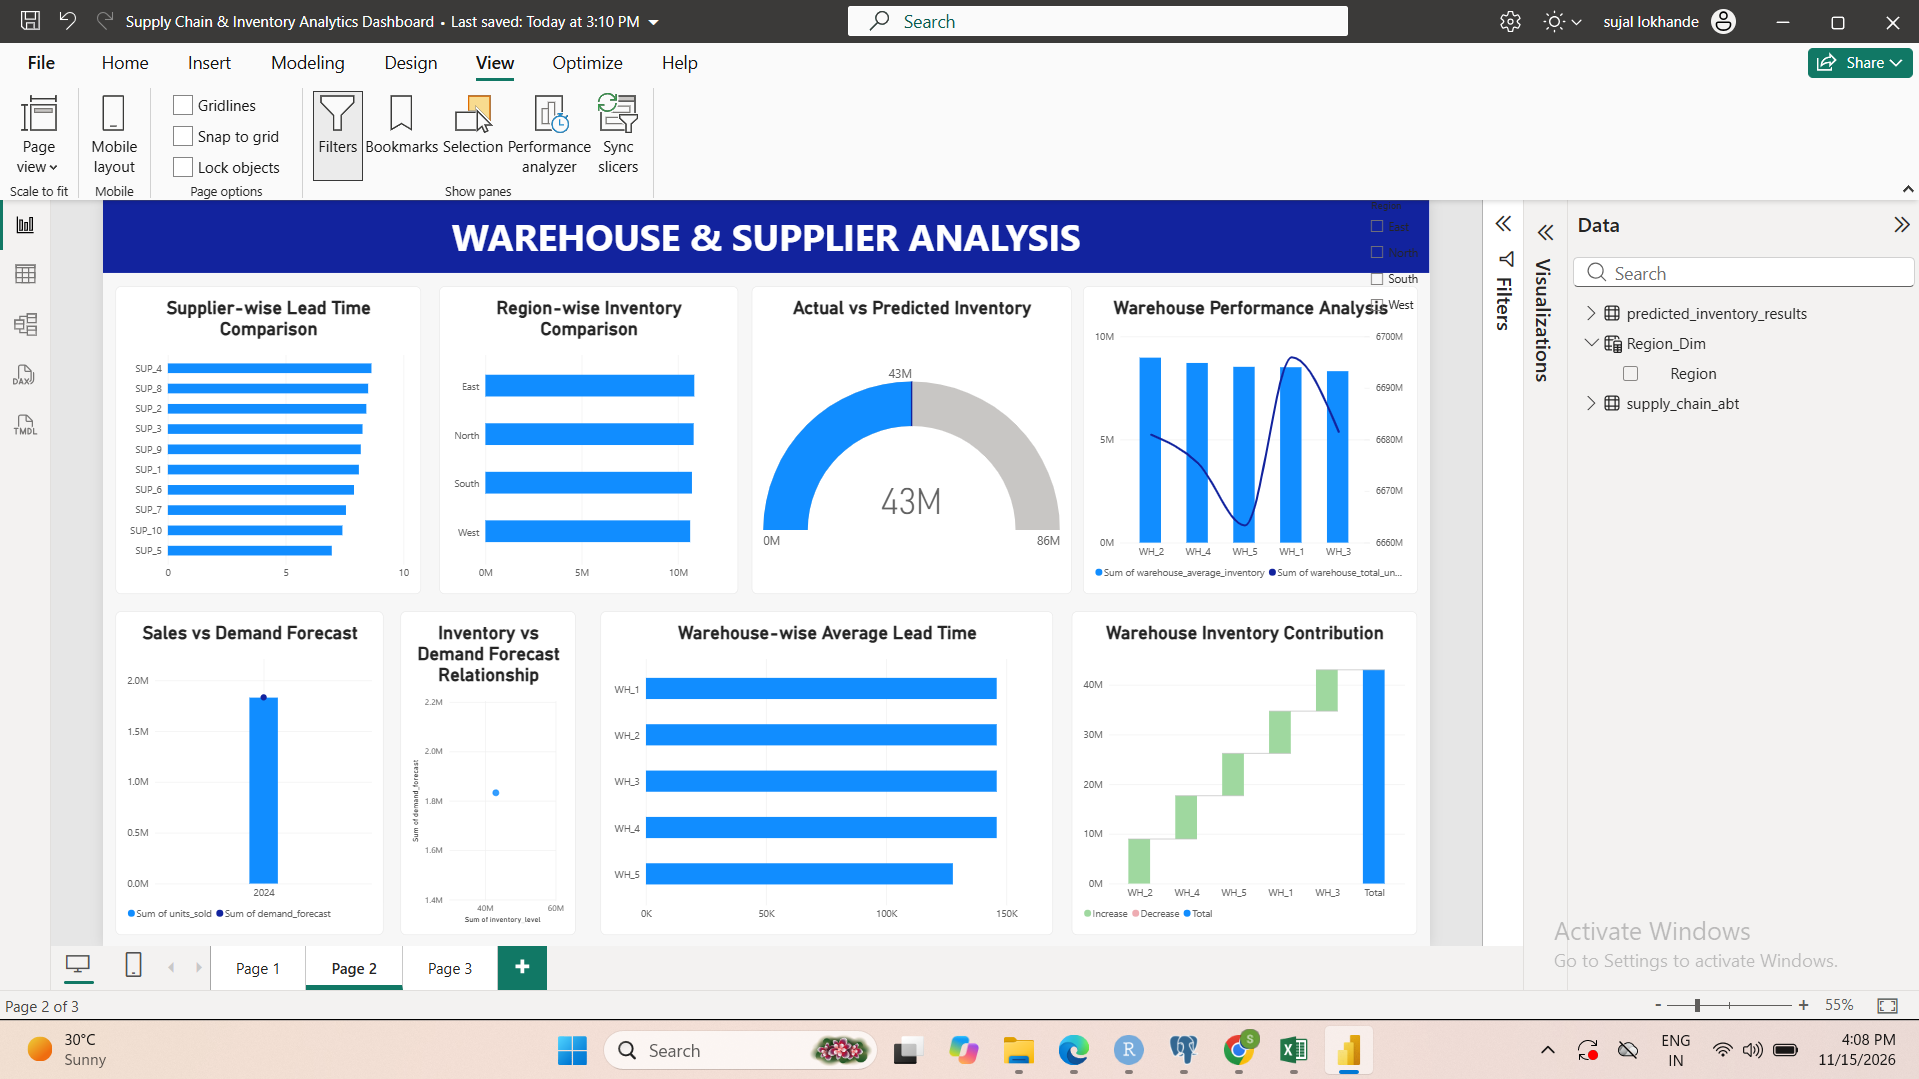

Layout of this report page (visuals, bound fields, positions):
{"tool":"powerbi","page":{"name":"Page 2","canvas":[1920,1080],"ordinal":1},"visuals":[{"type":"clusteredBarChart","title":"Supplier-wise Lead Time Comparison","fields":{"Category":["supply_chain_abt.supplier_id"],"Y":["Avg(supply_chain_abt.supplier_lead_time_days)"]},"box":[17.3,125,442.1,446],"z":0},{"type":"gauge","title":"Actual vs Predicted Inventory","fields":{"TargetValue":["predicted_inventory_results.Predicted Inventory KPI"],"Y":["Sum(supply_chain_abt.inventory_level)"]},"box":[940,125,463.3,446],"z":1000},{"type":"lineClusteredColumnComboChart","title":"Sales vs Demand Forecast","fields":{"Category":["predicted_inventory_results.date.Variation.Date Hierarchy.Year","predicted_inventory_results.date.Variation.Date Hierarchy.Quarter","predicted_inventory_results.date.Variation.Date Hierarchy.Month","predicted_inventory_results.date.Variation.Date Hierarchy.Day"],"Y":["Sum(predicted_inventory_results.units_sold)"],"Y2":["Sum(predicted_inventory_results.demand_forecast)"]},"box":[17.3,595.9,388.3,469],"z":2000},{"type":"scatterChart","title":"Inventory vs Demand Forecast Relationship","fields":{"X":["Sum(supply_chain_abt.inventory_level)"],"Y":["Sum(supply_chain_abt.demand_forecast)"]},"box":[430.6,595.9,253.7,469],"z":3000},{"type":"lineClusteredColumnComboChart","title":"Warehouse Performance Analysis","fields":{"Category":["supply_chain_abt.warehouse_id"],"Y":["Sum(supply_chain_abt.warehouse_average_inventory)"],"Y2":["Sum(supply_chain_abt.warehouse_total_units_sold)"]},"box":[1418.7,125,484.4,446],"z":5000},{"type":"clusteredBarChart","title":"Warehouse-wise Average Lead Time","fields":{"Category":["supply_chain_abt.warehouse_id"],"Y":["Sum(supply_chain_abt.warehouse_average_lead_time)"]},"box":[720.9,595.9,655.5,469],"z":6000},{"type":"waterfallChart","title":"Warehouse Inventory Contribution","fields":{"Category":["supply_chain_abt.warehouse_id"],"Y":["Sum(supply_chain_abt.warehouse_average_inventory)"]},"box":[1403.3,595.9,499.8,469],"z":7000},{"type":"textbox","box":[0,0,1920.4,105.7],"z":7001},{"type":"clusteredBarChart","title":"Region-wise Inventory Comparison","fields":{"Category":["predicted_inventory_results.region"],"Y":["Sum(predicted_inventory_results.inventory_level)"]},"box":[486.3,125,432.5,446],"z":7002},{"type":"slicer","fields":{"Values":["Region_Dim.Region"]},"box":[1828.1,0,92.3,180.7],"z":7003}]}

Visuals, with their boxes on the page's 1920x1080 design canvas (x1, y1, x2, y2). These are canvas units, not pixel positions in the 1919x1079 screenshot, which may show the page scaled, cropped or inside an application window:
"Supplier-wise Lead Time Comparison" clusteredBarChart: 17 125 459 571
"Actual vs Predicted Inventory" gauge: 940 125 1403 571
"Sales vs Demand Forecast" lineClusteredColumnComboChart: 17 596 406 1065
"Inventory vs Demand Forecast Relationship" scatterChart: 431 596 684 1065
"Warehouse Performance Analysis" lineClusteredColumnComboChart: 1419 125 1903 571
"Warehouse-wise Average Lead Time" clusteredBarChart: 721 596 1376 1065
"Warehouse Inventory Contribution" waterfallChart: 1403 596 1903 1065
textbox: 0 0 1920 106
"Region-wise Inventory Comparison" clusteredBarChart: 486 125 919 571
slicer - Region_Dim.Region: 1828 0 1920 181
